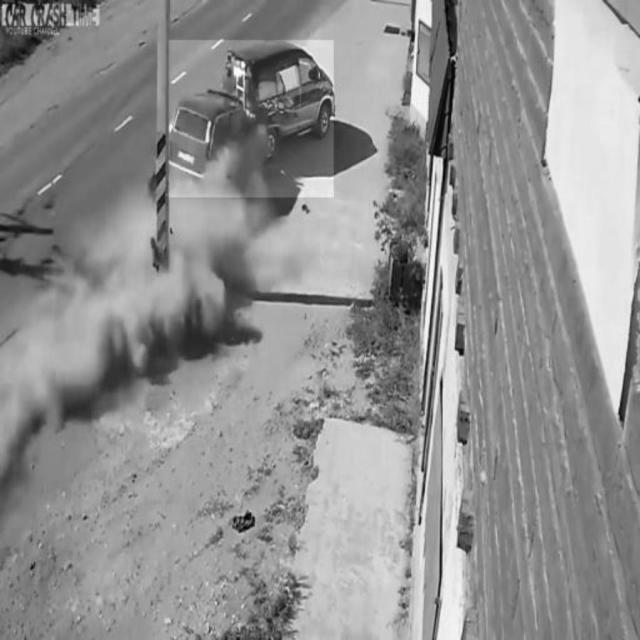accident: (169, 41, 334, 198)
